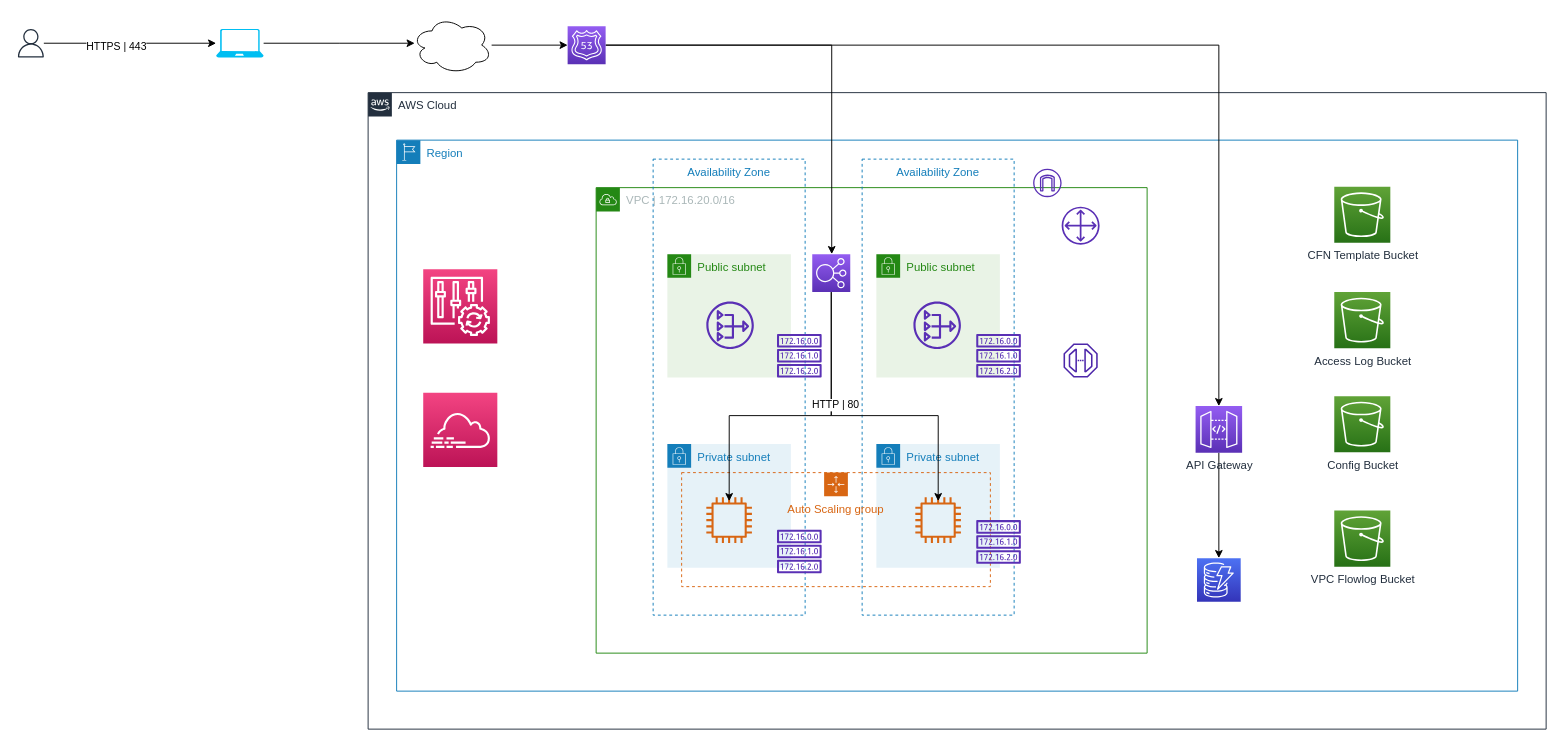
This 1563x746 diagram has some shape labels left out. Each missing label, with the centre of its shape:
"AWS Cloudtrail" belongs at pixel 459 429.
"AWS Config" belongs at pixel 459 305.
"DynamoDB" belongs at pixel 1218 579.
"https://ourwebsite.com" belongs at pixel 239 42.
"IGW" belongs at pixel 1047 182.
"VPC Endpoint (S3)" belongs at pixel 1080 360.
"VPC Router" belongs at pixel 1080 225.
